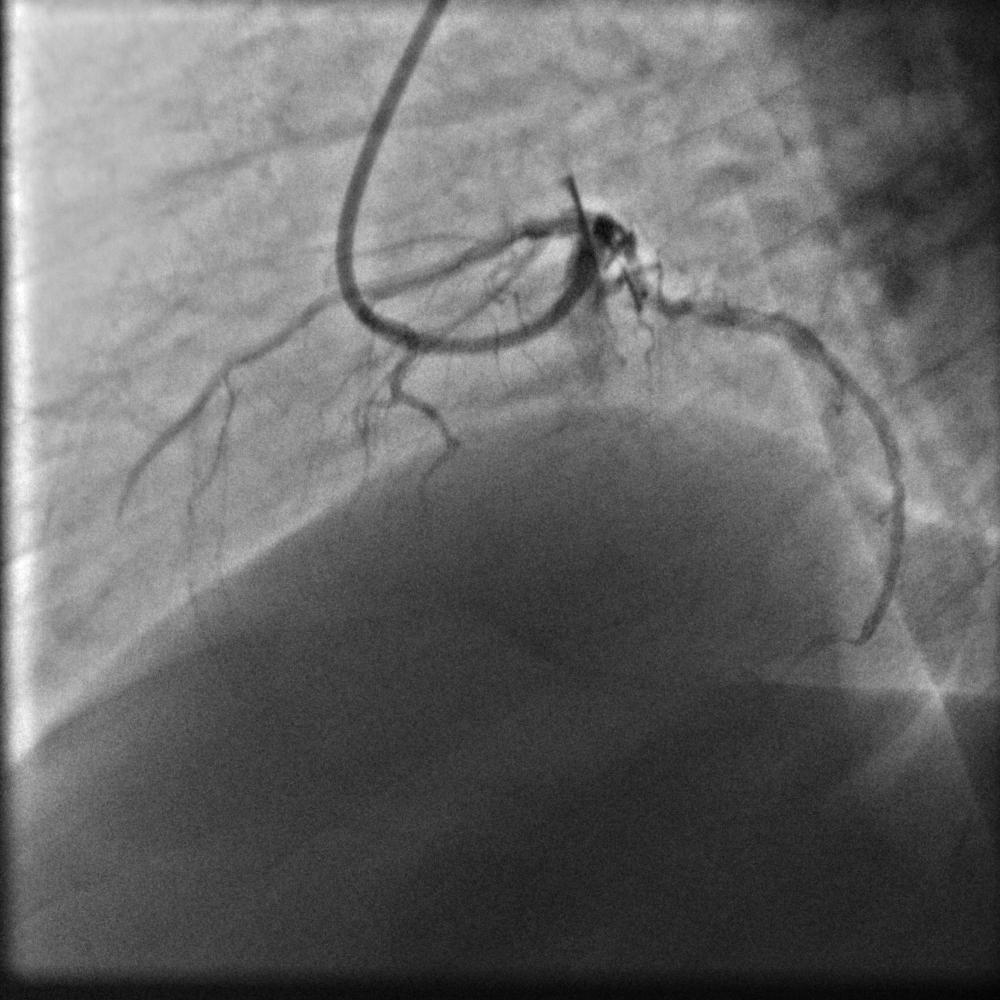Stenosis: (687, 292, 715, 326)
